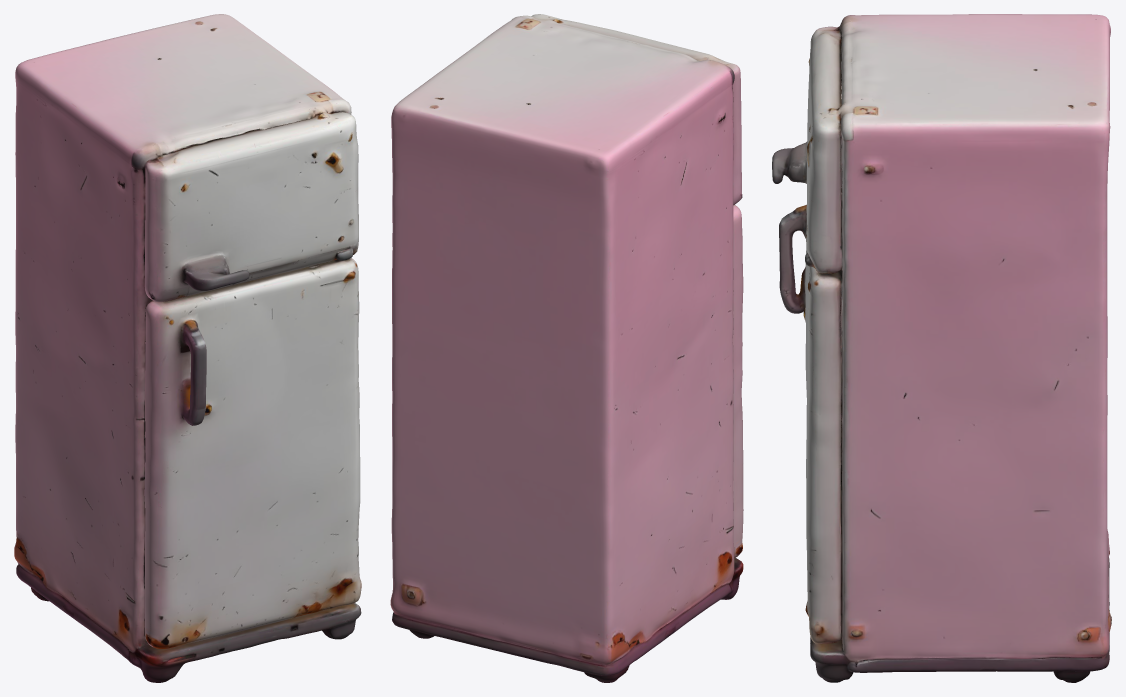
Rendered from retro_fridge_3d_model.fbx.
3 views of the same model, side by side, from view 1: azimuth 30°, elevation 25°; view 2: azimuth 150°, elevation 25°; view 3: azimuth 270°, elevation 25° (orthographic). The views are drawn at different scales.
Visible parts, largest first — view 1: tripo_node_f4ebe1e1; view 2: tripo_node_f4ebe1e1; view 3: tripo_node_f4ebe1e1.
Boxes of the visible parts, <box> form: tripo_node_f4ebe1e1: <box>14,14,361,682</box>; tripo_node_f4ebe1e1: <box>390,14,743,682</box>; tripo_node_f4ebe1e1: <box>772,14,1111,682</box>.
Size of the model in its own units: 43.61 by 99.36 by 53.83.
1 material, 1 textured.
